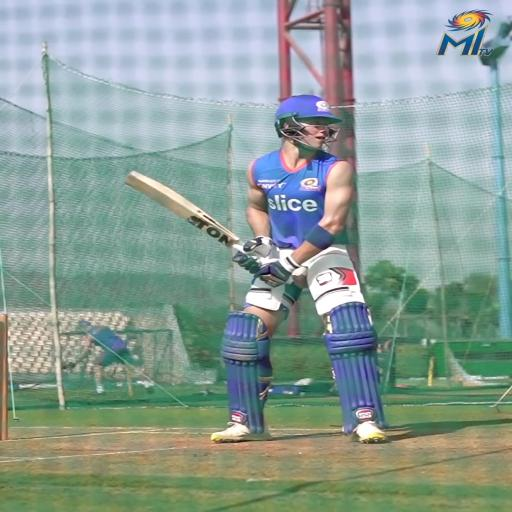Cricket bat: (126, 171, 242, 250)
